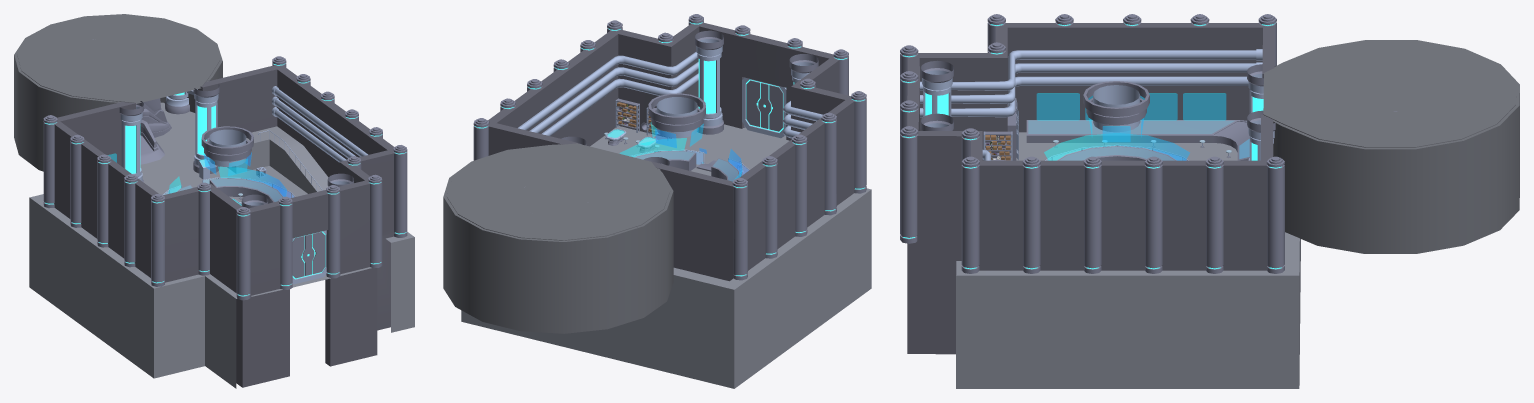
Rendered from Blocking_Tour_Tuto_Passe.fbx.
3 views of the same model, side by side, from view 1: azimuth 30°, elevation 25°; view 2: azimuth 150°, elevation 25°; view 3: azimuth 270°, elevation 25° (orthographic). The views are drawn at different scales.
Parts seen in each view (by area): view 1: Salle1.001, Sol.022, SalleAscenseurPlafond.001, SalleAscenseur.001, PorteVersTour.012, Decor.001, Salle1Mur.001, PorteVersTour.008, PorteVersTour.009, PorteVersTour.007, SolAscenseur.001, SolSalle1.001 (+14 smaller); view 2: Salle1.001, Sol.022, SalleAscenseur.001, SalleAscenseurPlafond.001, PorteVersTour.012, SolSalle1.001, TourEcrans.002, Salle1Mur.001, GrosTuyauNeon.012, Tuyau.004, Tuyau.005, PorteVersTour.007 (+10 smaller); view 3: Salle1.001, Sol.022, SalleAscenseur.001, SalleAscenseurPlafond.001, PorteVersTour.011, Bureau.006, Tuyau.004, TourEcrans.002, Tuyau.005, Tuyau.006, SolSalle1.001, PorteVersTour.010 (+14 smaller).
Part boxes in pixels (x1,y1,x2,y2): Salle1.001: [54, 65, 394, 387]; Sol.022: [29, 158, 414, 388]; SalleAscenseurPlafond.001: [17, 14, 219, 103]; SalleAscenseur.001: [14, 14, 222, 171]; PorteVersTour.012: [43, 115, 138, 267]; Decor.001: [227, 126, 328, 193]; Salle1Mur.001: [340, 150, 394, 330]; PorteVersTour.008: [236, 196, 292, 300]; PorteVersTour.009: [326, 174, 382, 278]; PorteVersTour.007: [151, 182, 211, 286]; SolAscenseur.001: [140, 102, 195, 183]; SolSalle1.001: [145, 166, 371, 296]; Salle1.001: [488, 23, 854, 281]; Sol.022: [461, 124, 871, 388]; SalleAscenseur.001: [443, 144, 673, 333]; SalleAscenseurPlafond.001: [446, 143, 670, 240]; PorteVersTour.012: [732, 112, 836, 280]; SolSalle1.001: [590, 126, 787, 176]; TourEcrans.002: [648, 93, 705, 147]; Salle1Mur.001: [616, 30, 671, 137]; GrosTuyauNeon.012: [695, 30, 723, 134]; Tuyau.004: [518, 52, 823, 130]; Tuyau.005: [529, 61, 812, 133]; PorteVersTour.007: [800, 78, 866, 193]; Salle1.001: [907, 23, 1274, 354]; Sol.022: [956, 232, 1300, 388]; SalleAscenseur.001: [1273, 40, 1519, 253]; SalleAscenseurPlafond.001: [1263, 40, 1516, 147]; PorteVersTour.011: [1022, 156, 1284, 273]; Bureau.006: [1026, 120, 1249, 160]; Tuyau.004: [920, 49, 1262, 160]; TourEcrans.002: [1083, 81, 1149, 141]; Tuyau.005: [920, 62, 1262, 103]; Tuyau.006: [920, 76, 1248, 117]; SolSalle1.001: [1016, 132, 1237, 160]; PorteVersTour.010: [961, 128, 979, 273].
Size of the model in its own units: 20.37 by 50.81 by 29.62.
